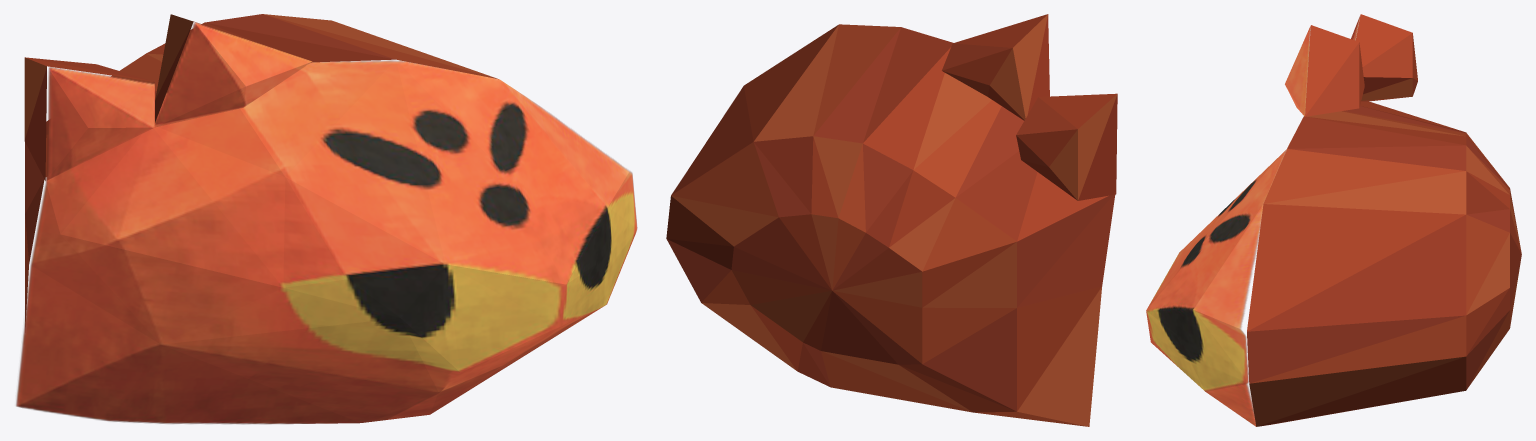
The model's file is manool.glb.
3 views of the same model, side by side, from view 1: azimuth 30°, elevation 25°; view 2: azimuth 150°, elevation 25°; view 3: azimuth 270°, elevation 25° (orthographic). The views are drawn at different scales.
Visible parts, largest first — view 1: Head — calibrated front facets, Head — closed sides and back, Upper ear — calibrated front facets, Near ear — calibrated front facets, Near ear — closed sides and back, Upper ear — closed sides and back; view 2: Head — closed sides and back, Near ear — closed sides and back, Upper ear — closed sides and back; view 3: Head — closed sides and back, Head — calibrated front facets, Upper ear — closed sides and back, Near ear — closed sides and back, Upper ear — calibrated front facets.
Boxes of the visible parts, bbox=[...] form: Head — calibrated front facets: bbox=[16, 60, 637, 424]; Head — closed sides and back: bbox=[25, 14, 498, 326]; Upper ear — calibrated front facets: bbox=[154, 22, 312, 127]; Near ear — calibrated front facets: bbox=[47, 67, 154, 180]; Near ear — closed sides and back: bbox=[24, 57, 154, 180]; Upper ear — closed sides and back: bbox=[155, 14, 300, 122]; Head — closed sides and back: bbox=[666, 24, 1115, 426]; Near ear — closed sides and back: bbox=[1016, 93, 1117, 200]; Upper ear — closed sides and back: bbox=[942, 14, 1049, 120]; Head — closed sides and back: bbox=[1247, 101, 1521, 426]; Head — calibrated front facets: bbox=[1146, 118, 1302, 426]; Upper ear — closed sides and back: bbox=[1305, 25, 1364, 116]; Near ear — closed sides and back: bbox=[1355, 14, 1417, 101]; Upper ear — calibrated front facets: bbox=[1285, 26, 1310, 116].
Bounding box in the file's own units: 3.82 × 3.08 × 3.17.
2 materials, 1 textured.
